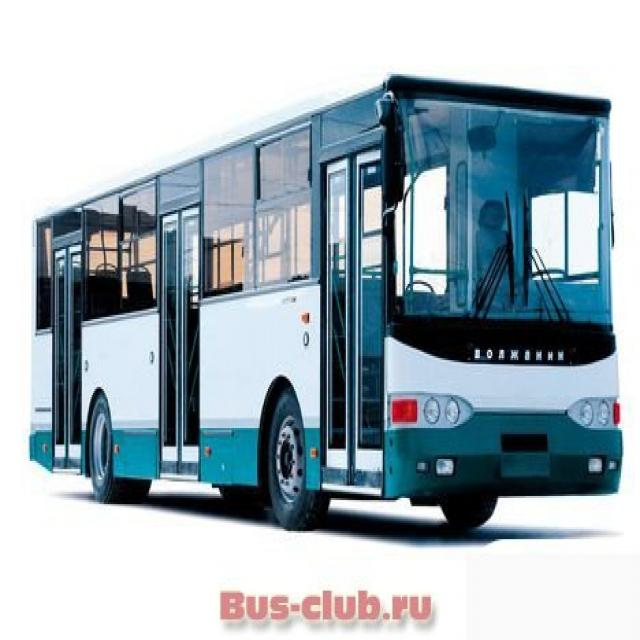bus: (25, 68, 629, 531)
